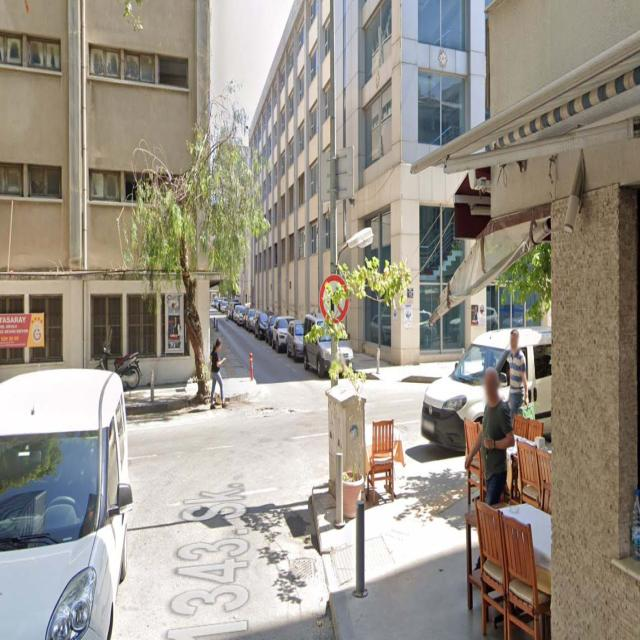sagadonulmez: (320, 275, 348, 322)
